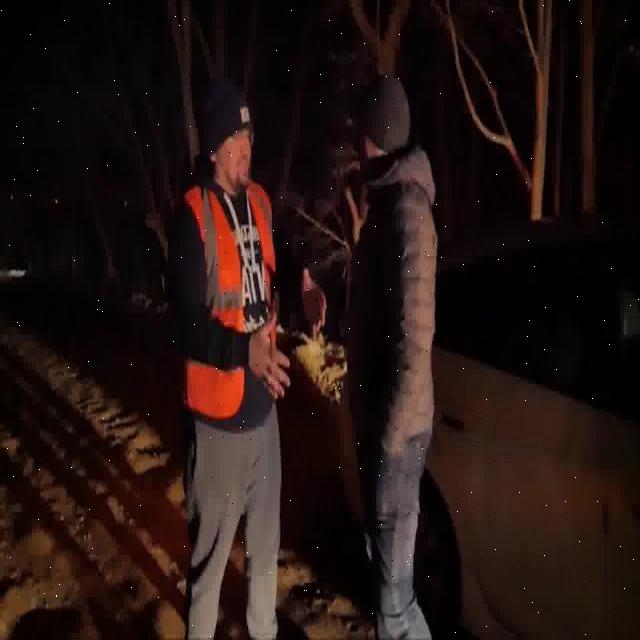Vest: (179, 185, 277, 417)
